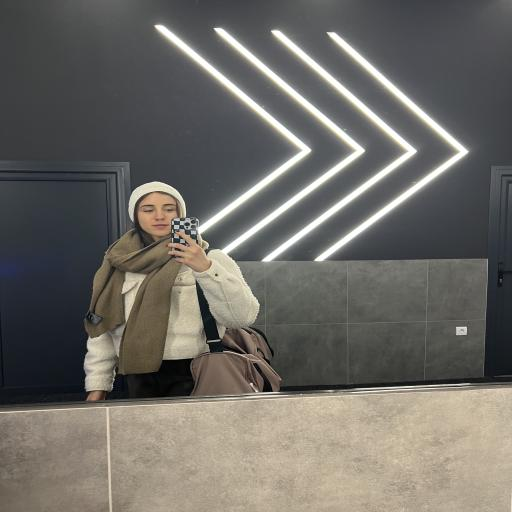masa: (137, 198, 177, 236)
